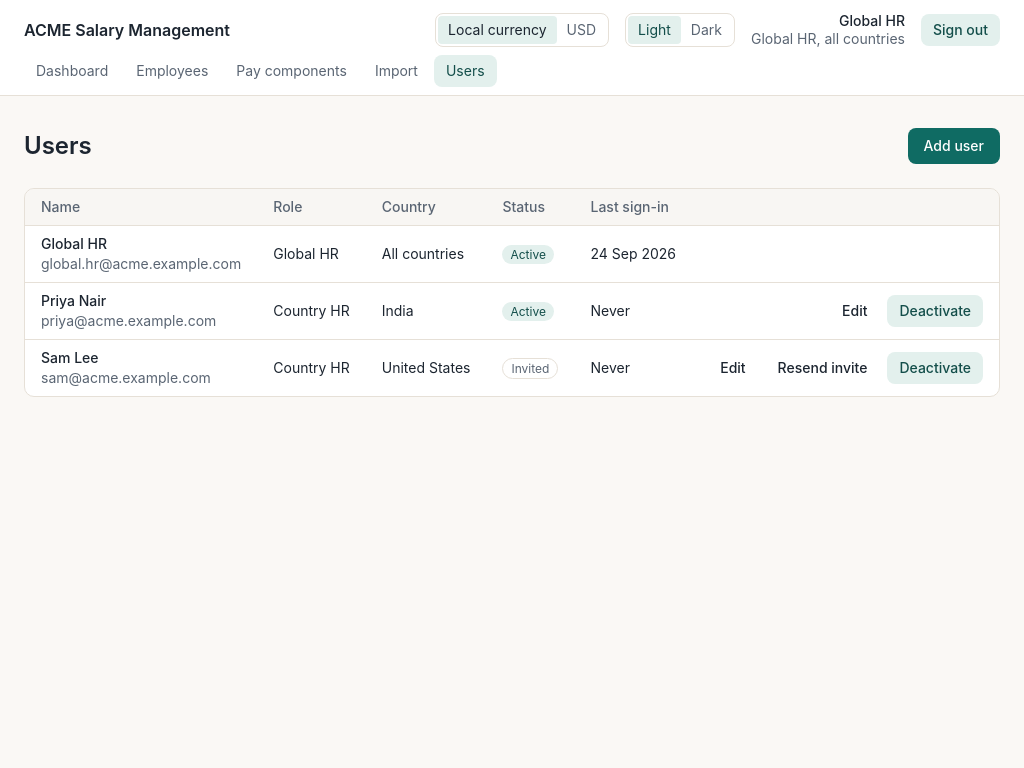
Test: UsersPage › tells the user when the invite email could not be sent
Click the button "Add user". click: (954, 146)
box: [908,128,1000,164]
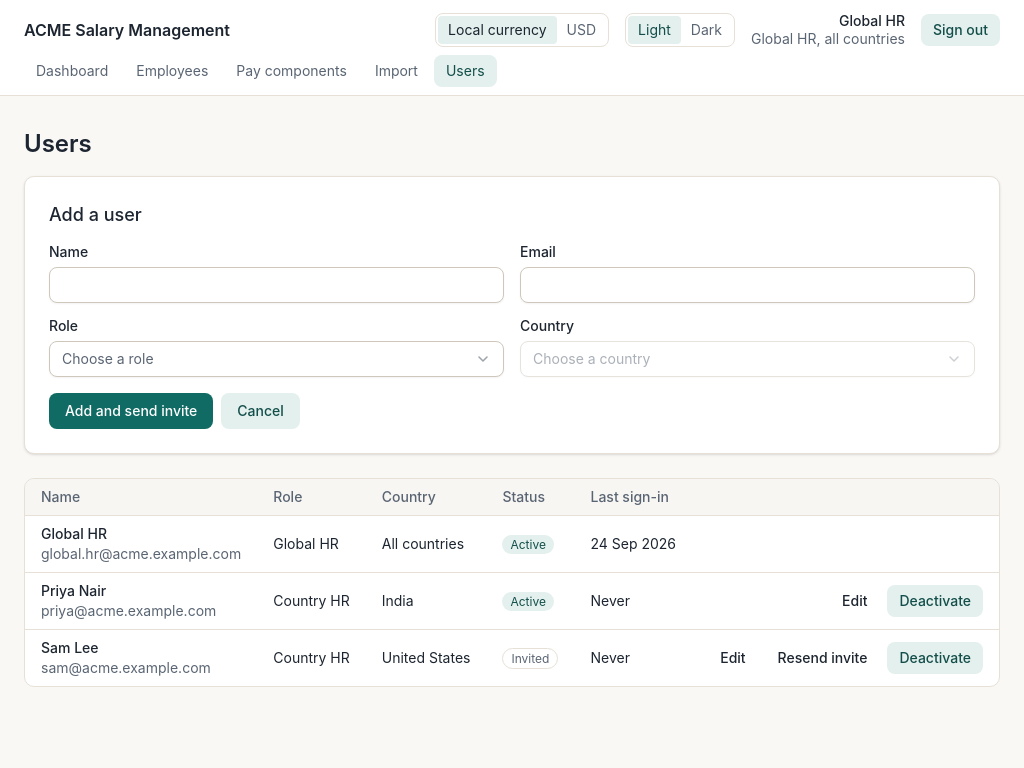
Type "Sam Lee" into the field labelled "Name". click: (276, 285)
box: [49,267,504,303]
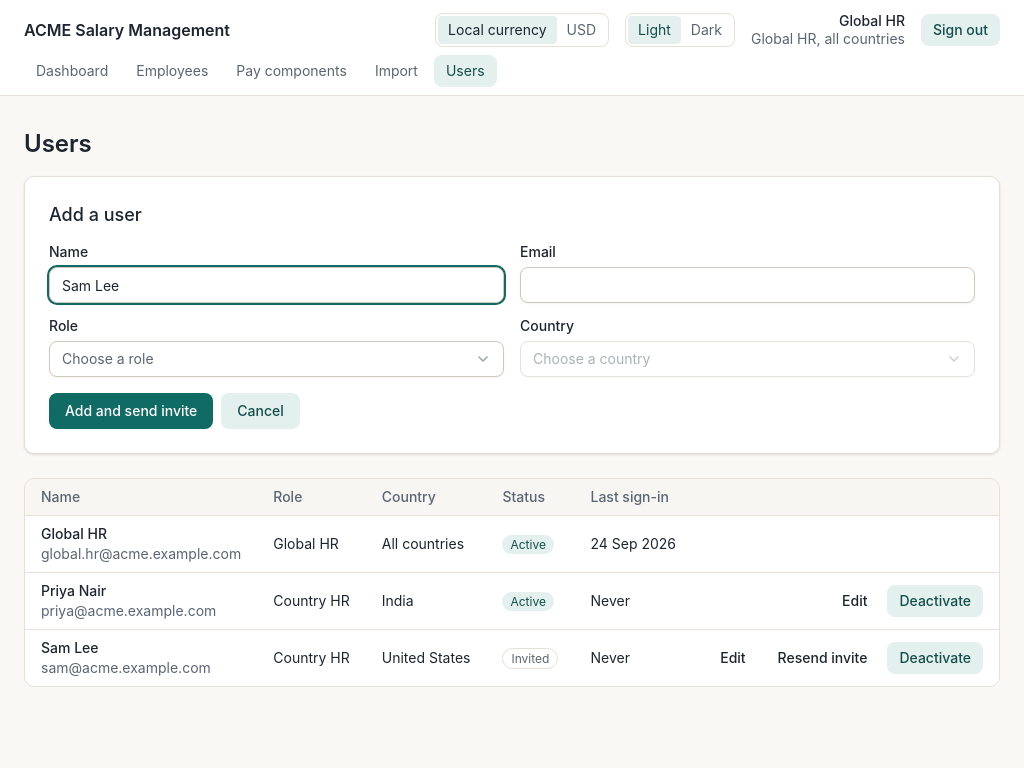
Type "sam@acme.example.com" into the field labelled "Email". click: (748, 285)
box: [520,267,975,303]
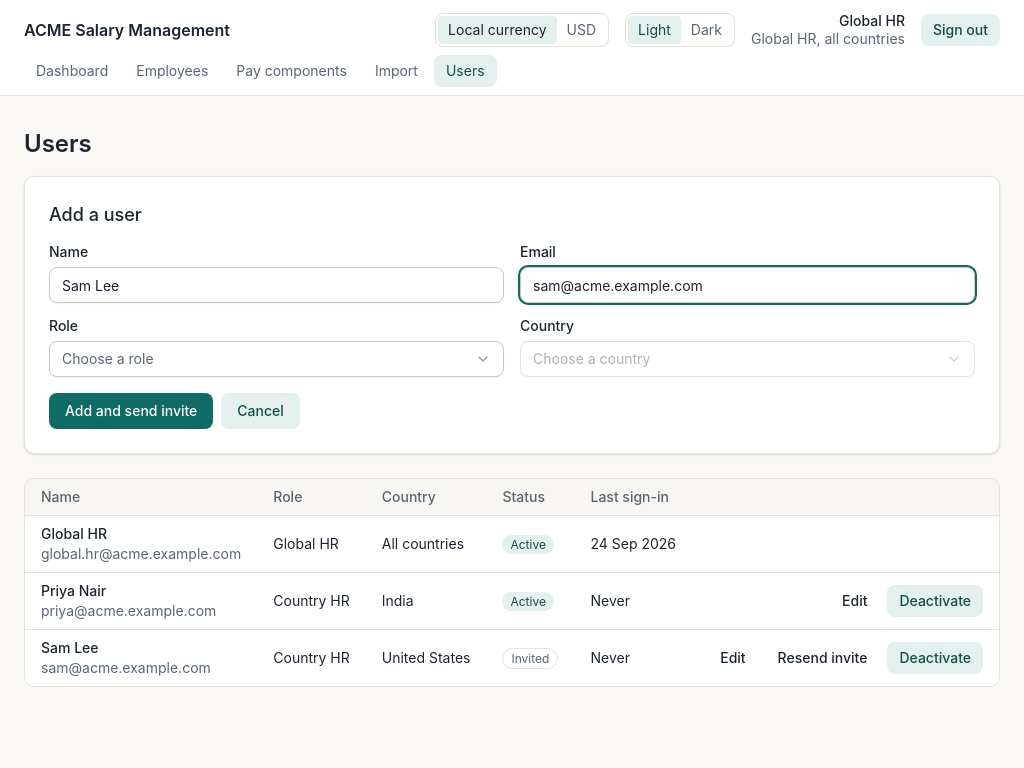
Click the dropdown labelled "role". click: (108, 358)
box: [49,341,504,377]
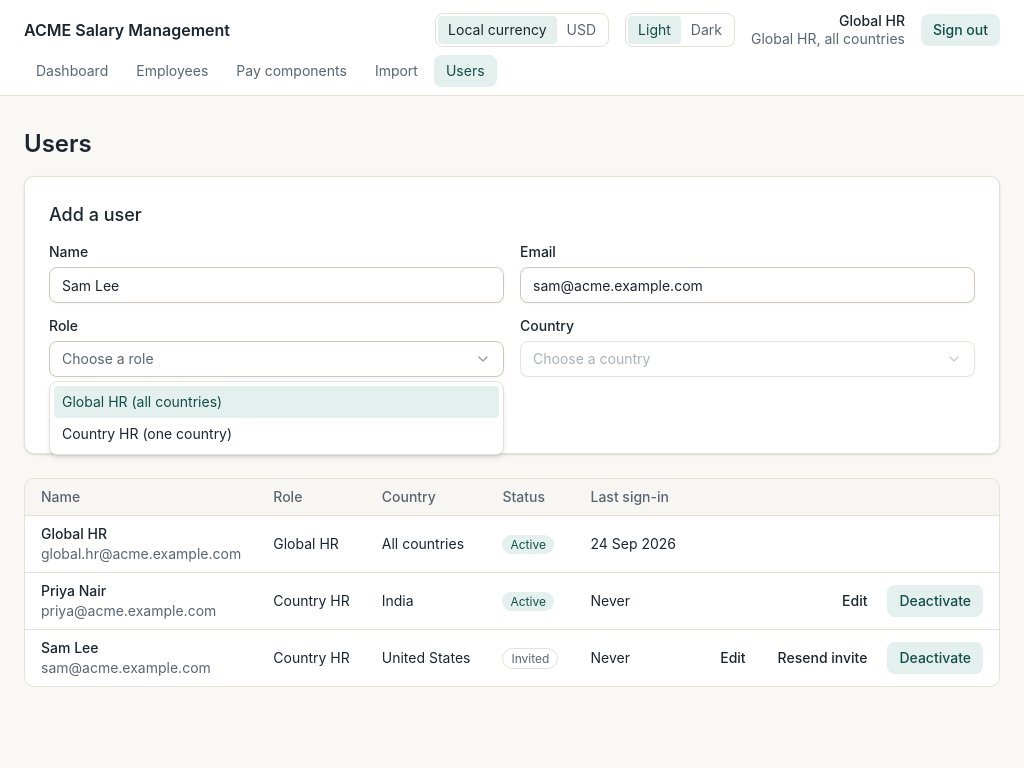
Click the option "Global HR (all countries)". click: (142, 402)
box: [54,386,499,418]
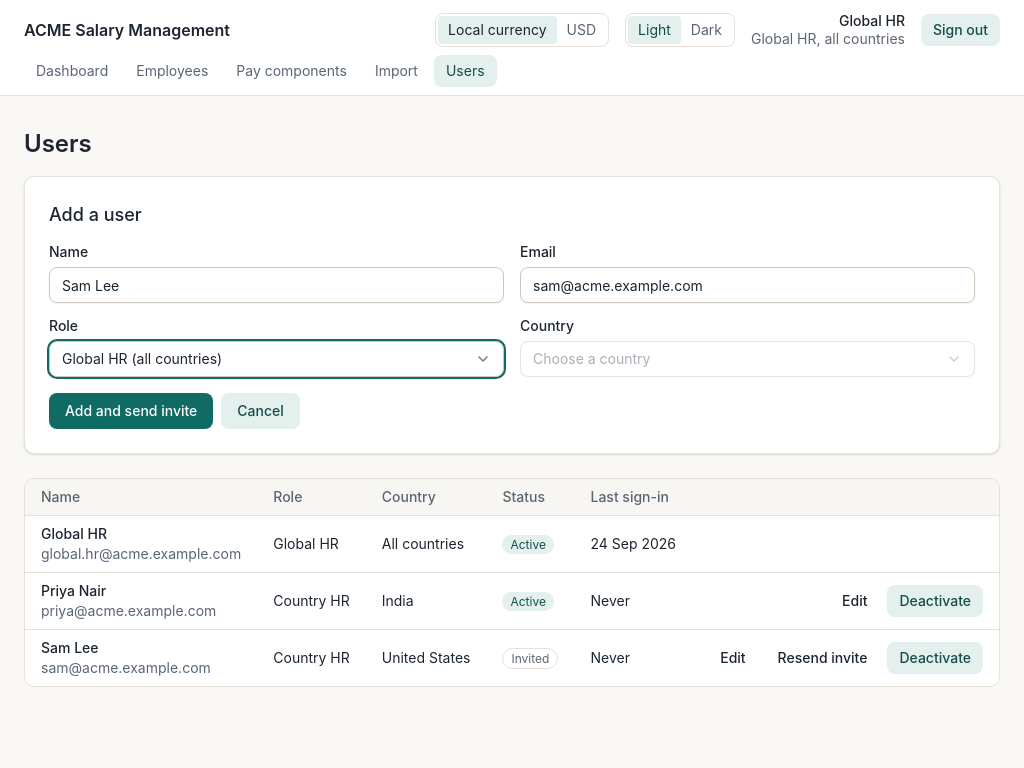
Click the button "Add and send invite". click: (131, 411)
box: [49,393,213,429]
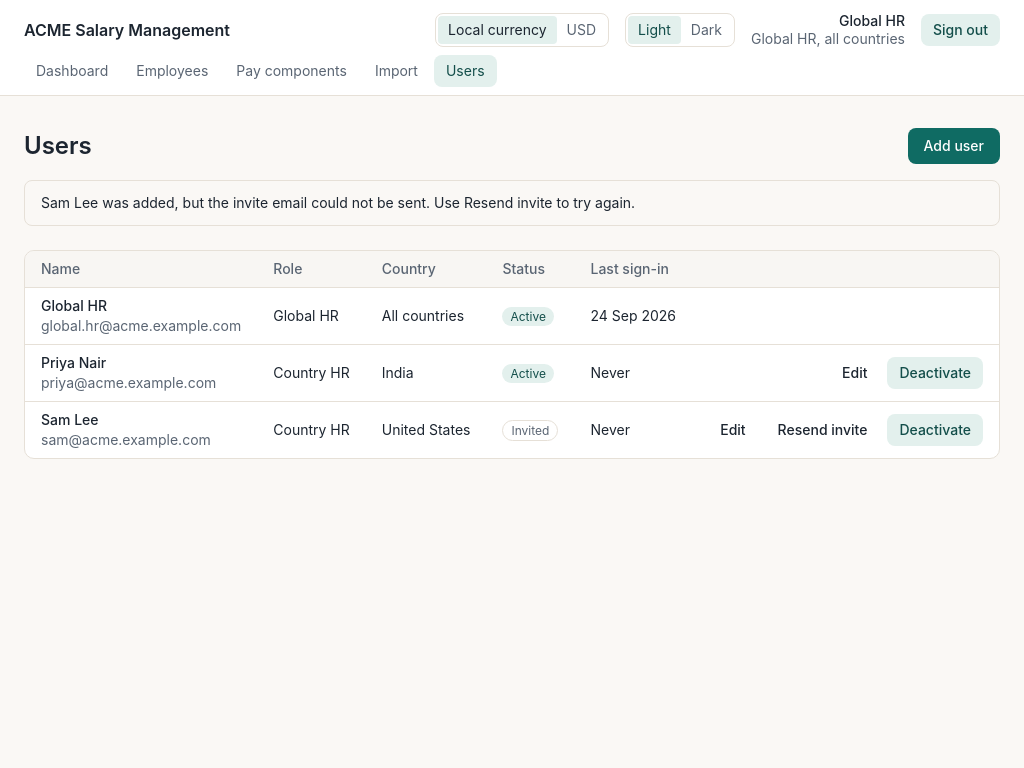
Result: the message shows "Sam Lee was added, but the invite email could not be sent. Use Resend invite to try again." at [41,194,635,211]
